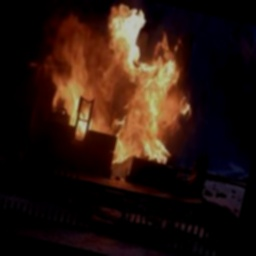fire: (18, 0, 219, 184)
